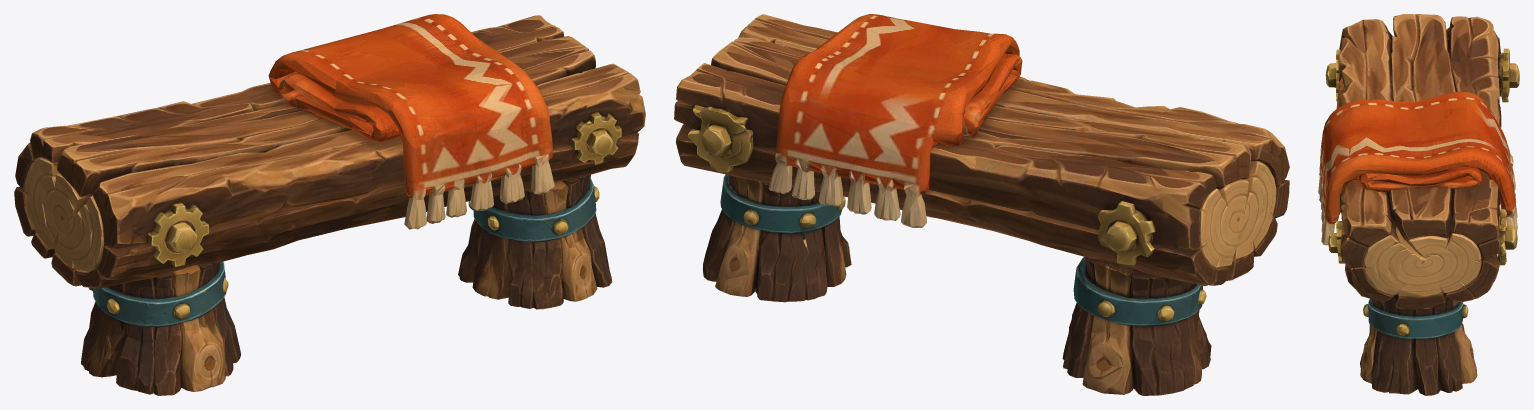
File: shelter_bench.glb
The picture shows the model from 3 angles, left to right: view 1: azimuth 30°, elevation 25°; view 2: azimuth 150°, elevation 25°; view 3: azimuth 270°, elevation 25°; orthographic projection. The views are drawn at different scales.
Parts seen in each view (by area): view 1: output_unwrapped; view 2: output_unwrapped; view 3: output_unwrapped.
Boxes of the visible parts, bbox=[...] form: output_unwrapped: bbox=[14, 14, 645, 395]; output_unwrapped: bbox=[674, 14, 1289, 395]; output_unwrapped: bbox=[1318, 14, 1519, 395].
Bounding box in the file's own units: 1.9 × 0.8569 × 0.781.
1 material, 1 textured.
